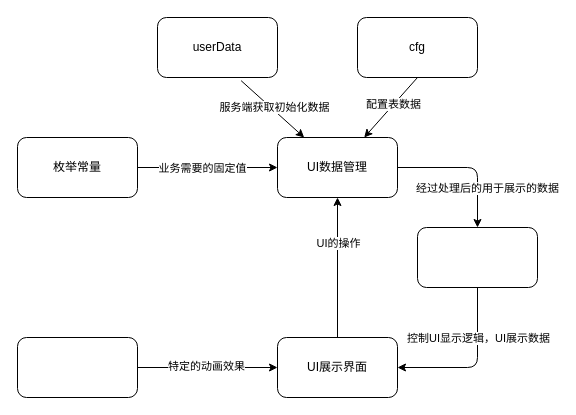
Some shapes in this 576 by 415 pixel diagram are drawn without their labels. Each missing label, with the centre of its shape:
"UI数据实体" belongs at [477,257].
"动画效果器" belongs at [77,367].
